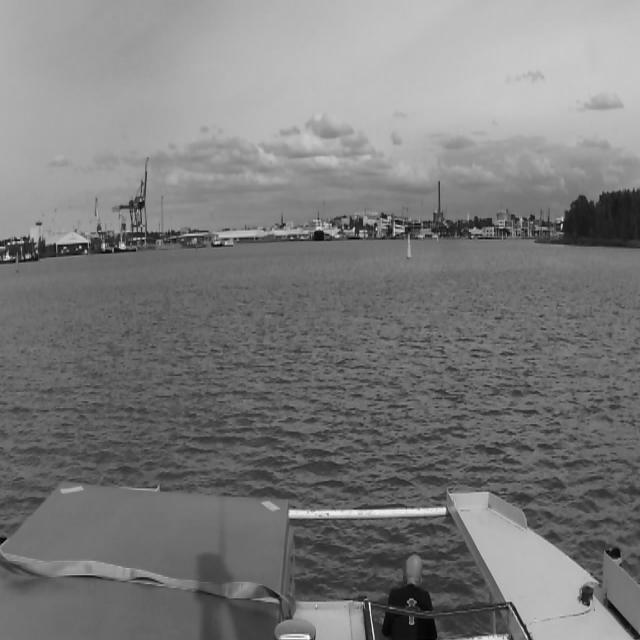buoy: (15, 250, 21, 274), (407, 234, 411, 257)
ship: (314, 208, 324, 240)
